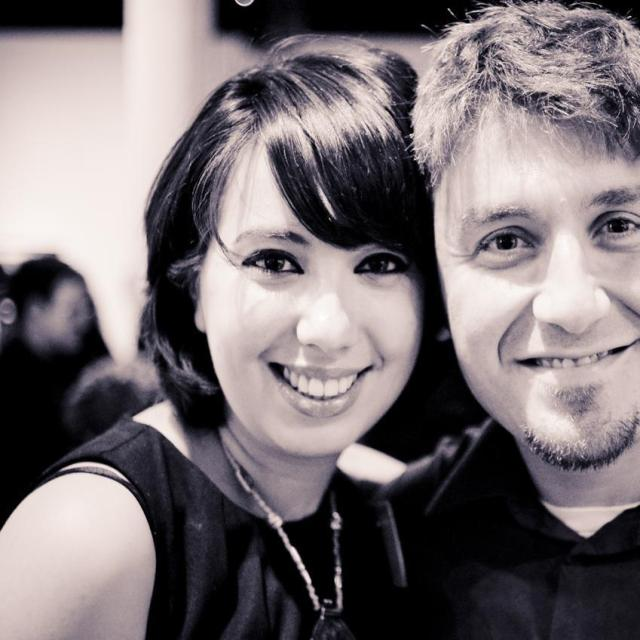no-glass: (477, 210, 640, 256), (228, 252, 401, 288)
